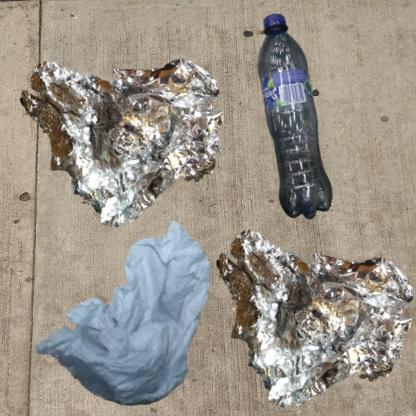aluminio: (10, 10, 265, 257), (213, 213, 416, 416)
botella: (213, 10, 398, 256)
papel: (10, 213, 259, 416)
